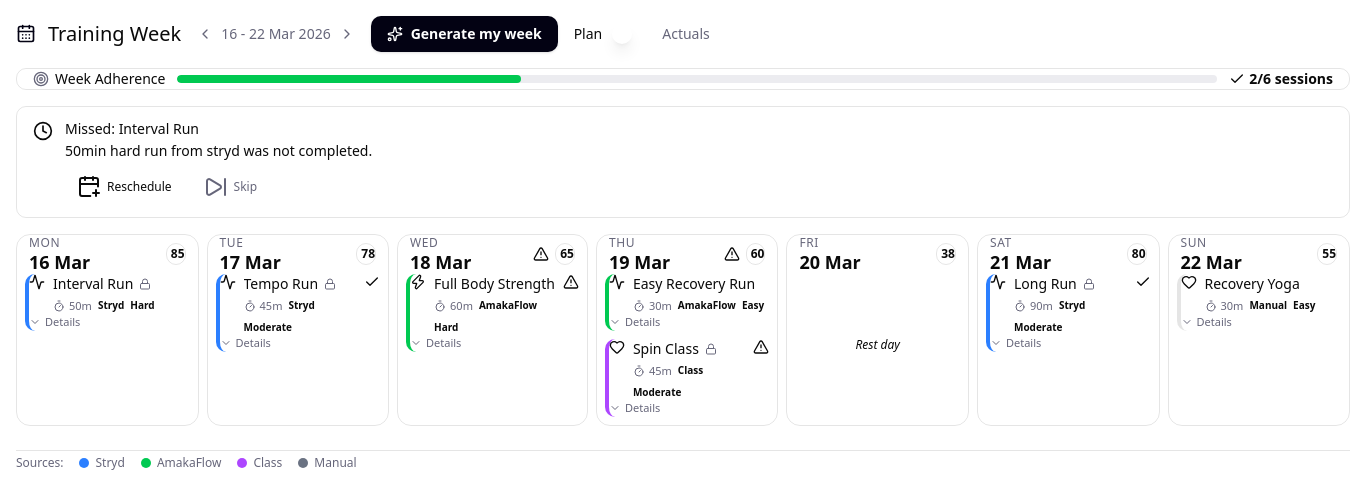
Test: TrainingWeekView › dismisses missed session on skip
Click the button with test id "skip-mon-run-missed": (230, 187) [192, 169, 269, 205]
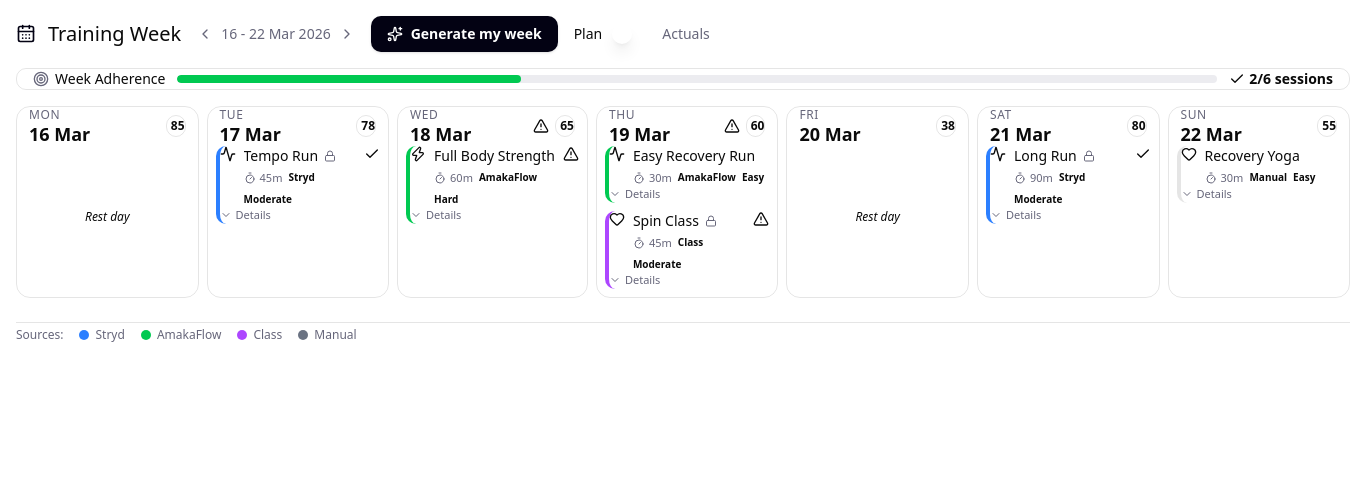
Expected: the element with test id "missed-session-prompt-mon-run-missed" is gone
